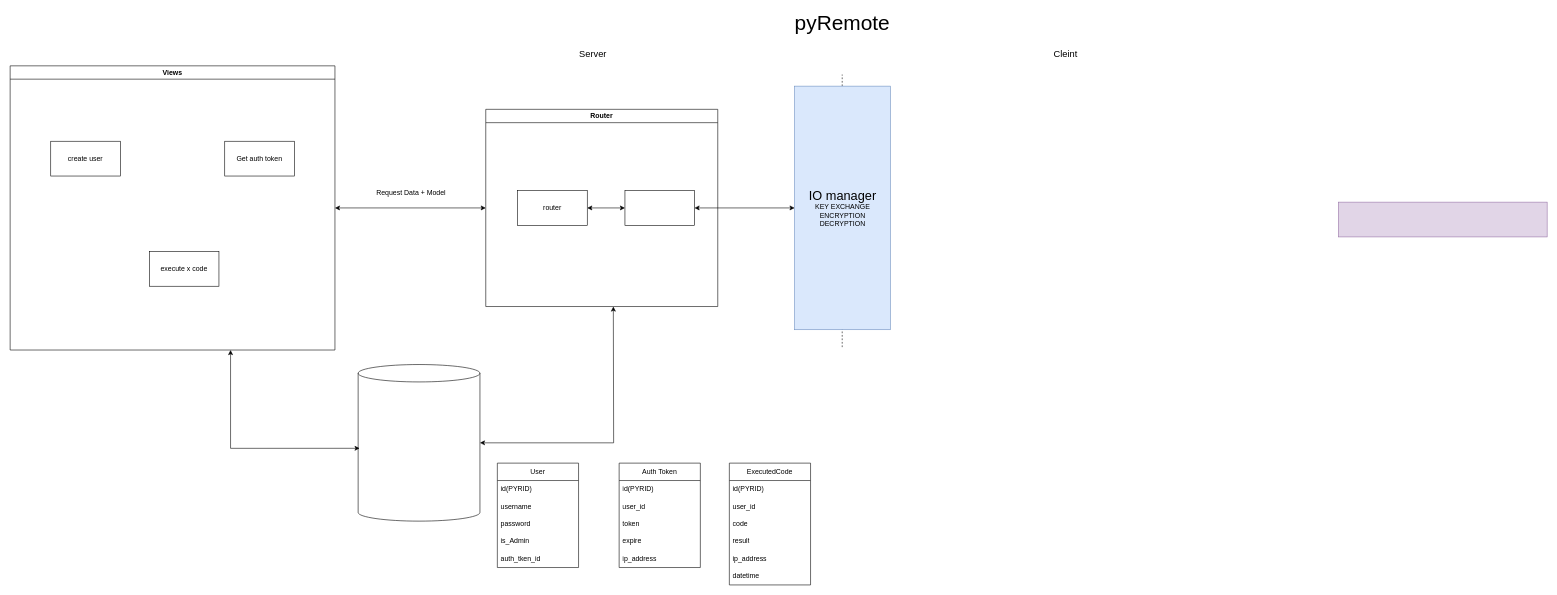
Some shapes in this 1557 by 595 pixel diagram are drawn without their labels. The centre of each missing label's shape, as x and y in pixels:
"serializer" belongs at point (659, 207).
"USER INTERFACE(CLI)" belongs at point (1442, 219).
